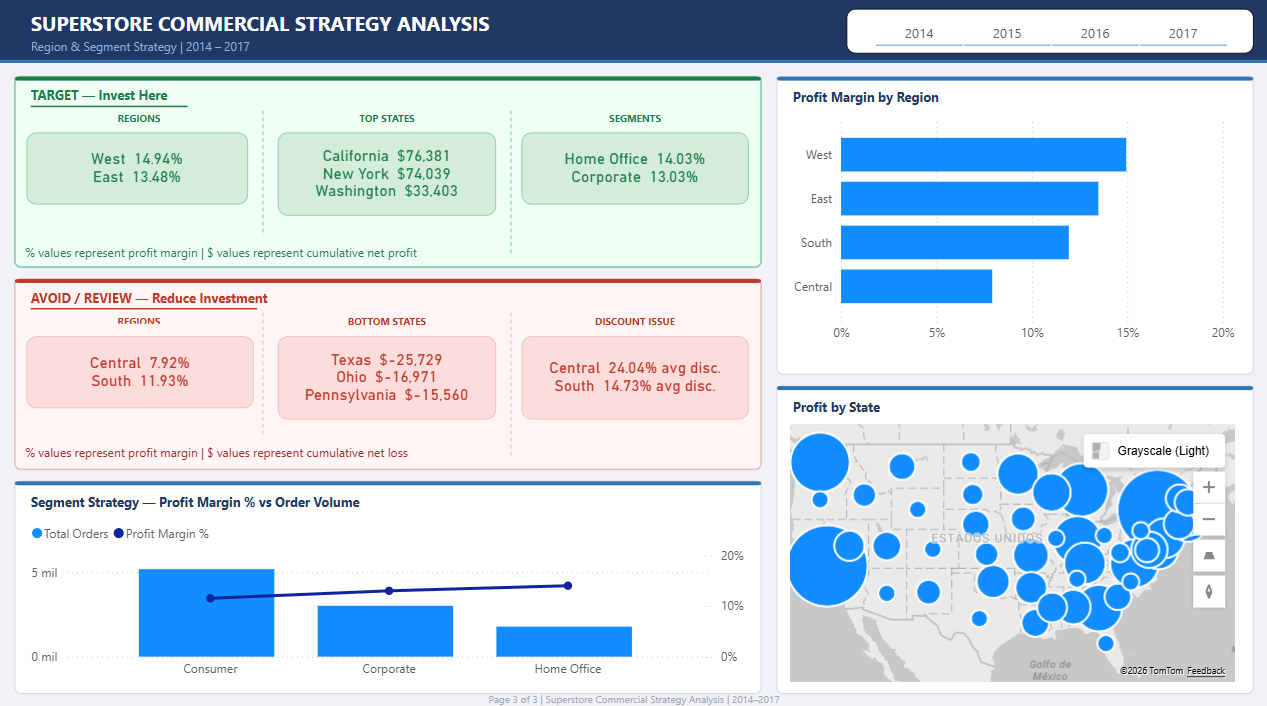

The page's visual inventory and layout, read from the dashboard file:
{"tool":"powerbi","page":{"name":"Region & Segment","canvas":[1280,720],"ordinal":2},"visuals":[{"type":"shape","box":[785.9,106.9,359.8,19.6],"z":0},{"type":"shape","box":[785.9,417,359.8,22.6],"z":1000},{"type":"slicer","fields":{"Values":["Calendar.Year"]},"box":[847.5,8.8,407.5,45],"z":2000},{"type":"shape","box":[19.6,121.9,239.4,135.5],"z":3000},{"type":"shape","box":[272.5,121.9,230.3,135.5],"z":4000},{"type":"shape","box":[522.4,121.9,227.3,135.5],"z":5000},{"type":"shape","box":[143,240.9,349.3,16.6],"z":6000},{"type":"shape","box":[25.6,323.7,234.9,137],"z":7000},{"type":"shape","box":[268,326.7,239.4,134],"z":8000},{"type":"shape","box":[517.9,326.7,231.9,134],"z":9000},{"type":"shape","box":[106.9,439.6,274,16.6],"z":10000},{"type":"textbox","box":[21.1,237.9,477.3,37.6],"z":11000},{"type":"textbox","box":[21.1,438.1,517.9,42.2],"z":12000},{"type":"card","fields":{"Values":["DAX Measures.TARGET Regions Card"]},"box":[27.1,132.5,221.3,72.3],"z":13000},{"type":"card","fields":{"Values":["DAX Measures.TARGET States Card"]},"box":[278.5,132.5,218.3,82.8],"z":14000},{"type":"card","fields":{"Values":["DAX Measures.TARGET Segments Card"]},"box":[522.4,132.5,227.3,72.3],"z":15000},{"type":"card","fields":{"Values":["DAX Measures.AVOID Regions Card"]},"box":[27.1,335.7,227.3,72.3],"z":16000},{"type":"card","fields":{"Values":["DAX Measures.AVOID States Card"]},"box":[278.5,335.7,218.3,82.8],"z":17000},{"type":"card","fields":{"Values":["DAX Measures.AVOID Discount Region Card"]},"box":[522.4,335.7,227.3,82.8],"z":18000},{"type":"shape","box":[21.1,561.6,359.8,22.6],"z":19000},{"type":"barChart","fields":{"Category":["Superstore_Data.Region"],"Y":["DAX Measures.Profit Margin %"]},"box":[785.9,106.9,454.7,243.9],"z":20000},{"type":"shape","box":[27.1,513.4,359.8,22.6],"z":21000},{"type":"azureMap","fields":{"Category":["Superstore_Data.State"],"Size":["DAX Measures.Total Profit"]},"box":[785.9,418.5,454.7,268],"z":22000},{"type":"lineClusteredColumnComboChart","fields":{"Category":["Superstore_Data.Segment"],"Y":["DAX Measures.Total Orders"],"Y2":["DAX Measures.Profit Margin %"]},"box":[27.1,513.4,722.7,173.1],"z":22001}]}

Visuals, with their boxes in screenshot pixels (x1, y1, x2, y2), scaled from the page's 1280x720 canvas onto the 1267x706 screenshot:
shape: crop(778, 105, 1134, 124)
shape: crop(778, 409, 1134, 431)
slicer - Calendar.Year: crop(839, 9, 1242, 53)
shape: crop(19, 120, 256, 252)
shape: crop(270, 120, 498, 252)
shape: crop(517, 120, 742, 252)
shape: crop(142, 236, 487, 252)
shape: crop(25, 317, 258, 452)
shape: crop(265, 320, 502, 452)
shape: crop(513, 320, 742, 452)
shape: crop(106, 431, 377, 447)
textbox: crop(21, 233, 493, 270)
textbox: crop(21, 430, 534, 471)
card - DAX Measures.TARGET Regions Card: crop(27, 130, 246, 201)
card - DAX Measures.TARGET States Card: crop(276, 130, 492, 211)
card - DAX Measures.TARGET Segments Card: crop(517, 130, 742, 201)
card - DAX Measures.AVOID Regions Card: crop(27, 329, 252, 400)
card - DAX Measures.AVOID States Card: crop(276, 329, 492, 410)
card - DAX Measures.AVOID Discount Region Card: crop(517, 329, 742, 410)
shape: crop(21, 551, 377, 573)
barChart - Superstore_Data.Region x DAX Measures.Profit Margin %: crop(778, 105, 1228, 344)
shape: crop(27, 503, 383, 526)
azureMap - Superstore_Data.State x DAX Measures.Total Profit: crop(778, 410, 1228, 673)
lineClusteredColumnComboChart - Superstore_Data.Segment x DAX Measures.Total Orders: crop(27, 503, 742, 673)
